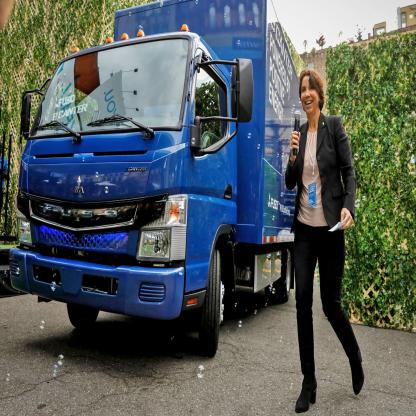truck: (10, 1, 304, 359)
